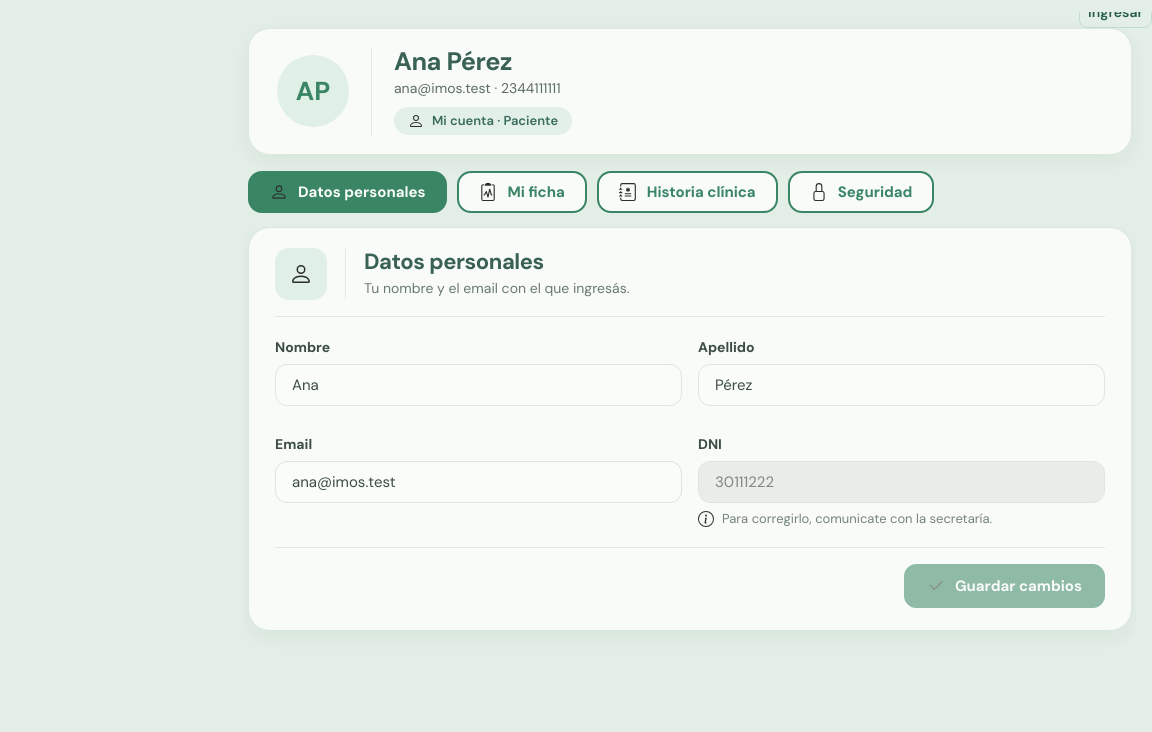
it: VerUsuario: qué ve cada uno › el paciente en Mi cuenta (propio) › 'Mi ficha' muestra teléfono, sexo, nacimiento con edad y 'Sin obra social'
The width and height of the screenshot is (1152, 732).
Click the tab "Mi ficha". click: (522, 192)
box: [458,171,587,213]
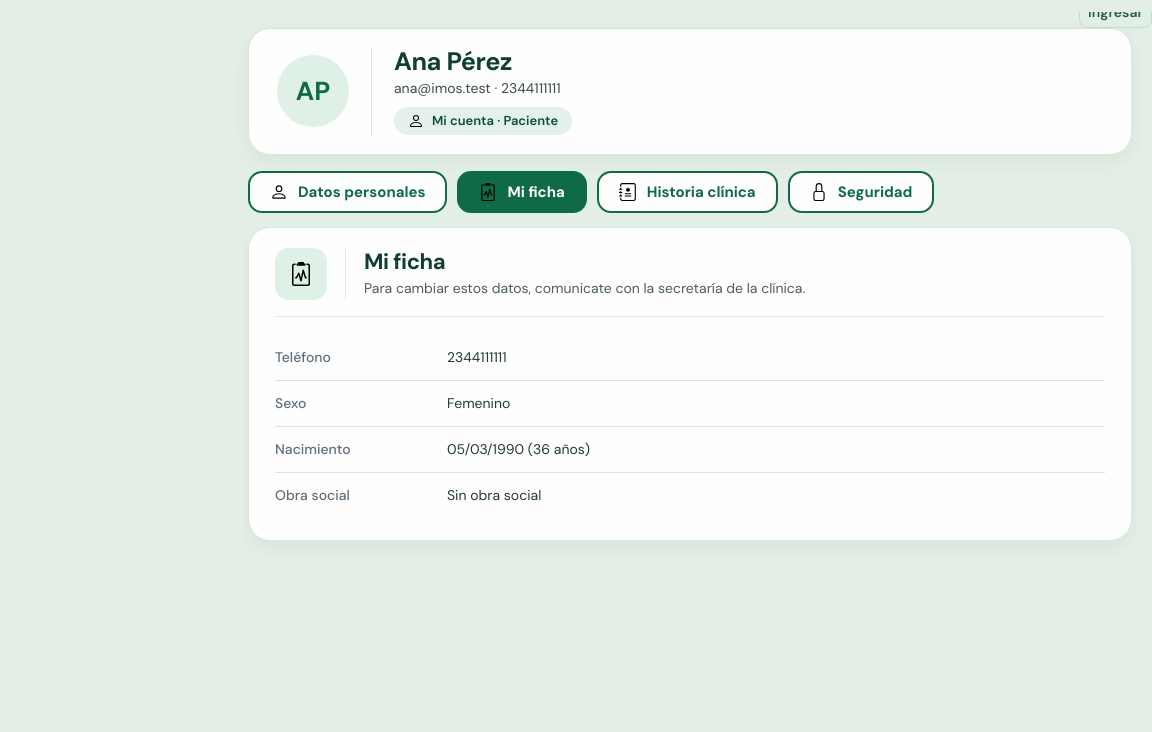
Now the text "2344111111" is shown, box [447,348,506,366]
Now the text "Femenino" is shown, box [447,394,510,412]
Now the text "05/03/1990 (36 años)" is shown, box [447,440,590,458]
